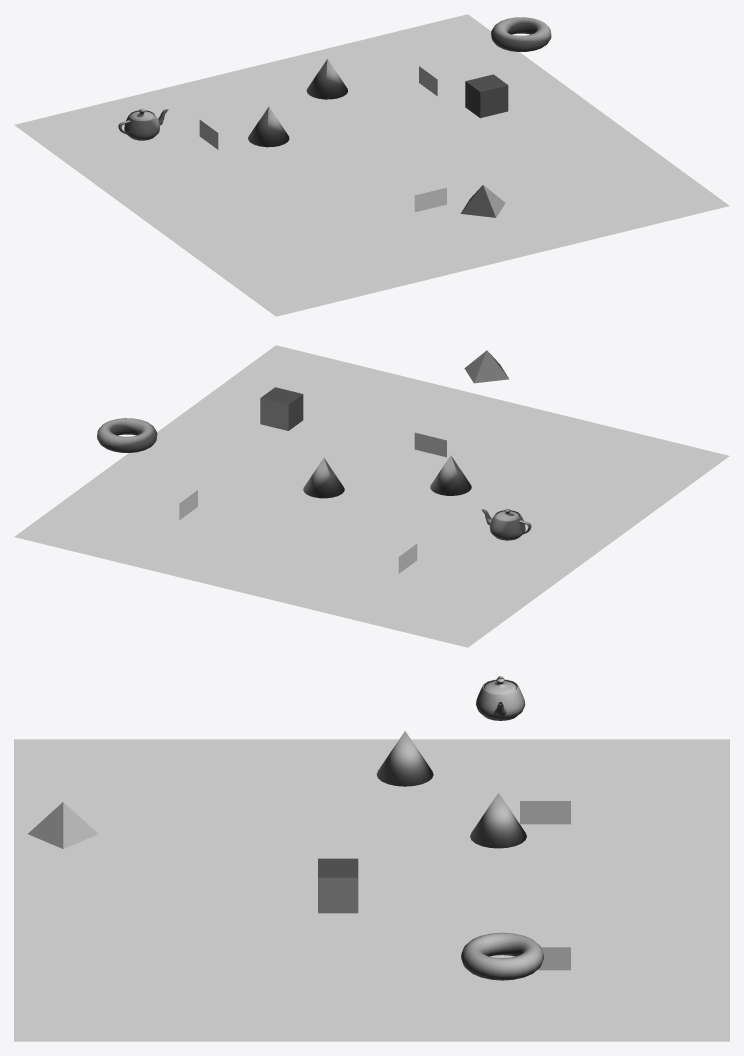
3 views of the same model, one above another, from view 1: azimuth 30°, elevation 25°; view 2: azimuth 150°, elevation 25°; view 3: azimuth 270°, elevation 25° (orthographic). The views are drawn at different scales.
Parts seen in each view (by area): view 1: Plane, pTorus1, pCube1, teapot1, pCone1, pCone1_001, pPyramid1, bsp_planeC; view 2: Plane, pTorus1, pCube1, teapot1, pCone1, pCone1_001, pPyramid1, bsp_planeC; view 3: Plane, pTorus1, pCube1, pCone1_001, pCone1, pPyramid1, teapot1, bsp_planeA, bsp_planeB.
Boxes of the visible parts, box(x1,y1,x2,y2) form: Plane: box(14, 14, 729, 316); pTorus1: box(491, 17, 551, 51); pCube1: box(465, 74, 508, 118); teapot1: box(118, 109, 168, 140); pCone1: box(306, 59, 347, 99); pCone1_001: box(248, 106, 289, 147); pPyramid1: box(460, 185, 505, 217); bsp_planeC: box(414, 187, 446, 212); Plane: box(14, 345, 729, 647); pTorus1: box(97, 418, 157, 452); pCube1: box(260, 387, 303, 430); teapot1: box(481, 509, 531, 540); pCone1: box(303, 458, 344, 498); pCone1_001: box(430, 455, 471, 495); pPyramid1: box(464, 350, 508, 383); bsp_planeC: box(414, 432, 446, 457); Plane: box(14, 739, 729, 1041); pTorus1: box(461, 932, 543, 980); pCube1: box(318, 858, 358, 913); pCone1_001: box(376, 731, 433, 786); pCone1: box(470, 793, 526, 848); pPyramid1: box(28, 802, 98, 848); teapot1: box(476, 676, 525, 720); bsp_planeA: box(520, 801, 570, 824); bsp_planeB: box(537, 947, 570, 970).
Bounding box in the file's own units: 27.97 × 27.97 × 5.27.
